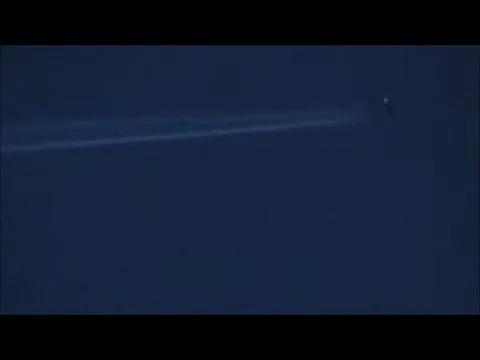Plane: (193, 83, 416, 137)
